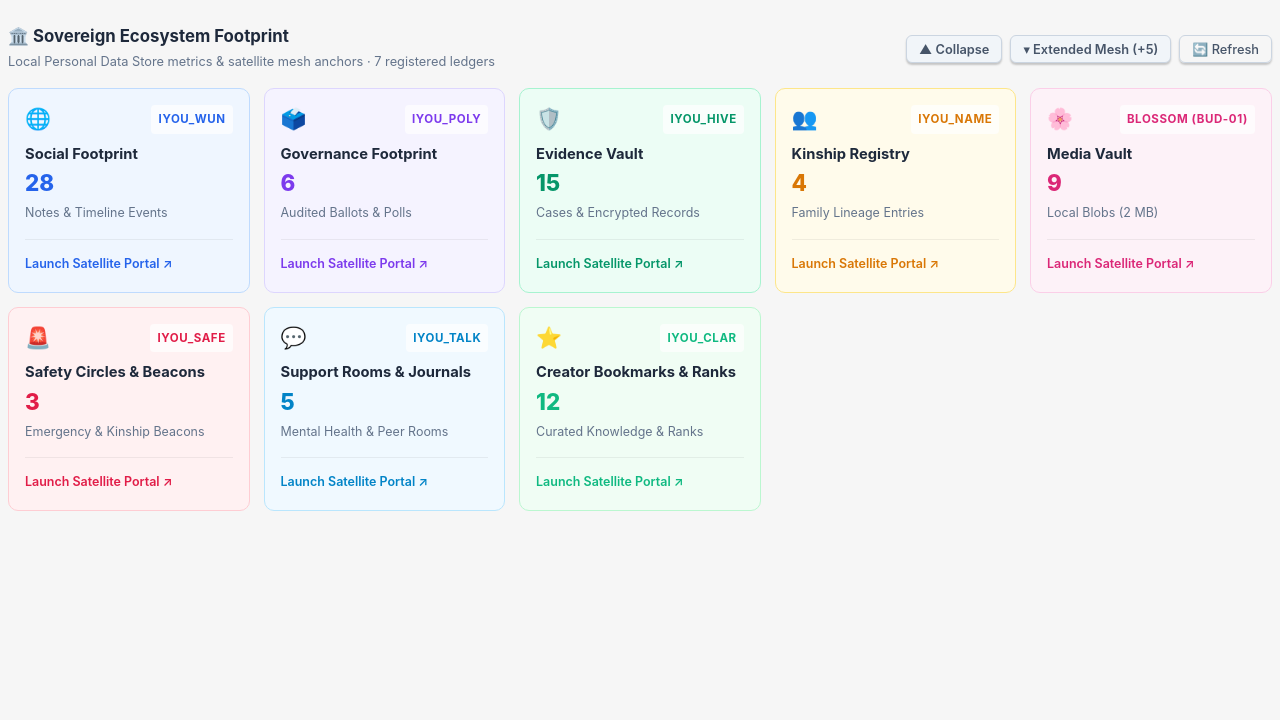
SovereignFootprint Core 8 & Extended Mesh › expands and collapses the Extended Mesh (+5) drawer
Expected: the text "Social Footprint" is shown, [25,145,138,163]
Expected: the text "Extended Mesh Ecosystem (+5 Satellites)" is not shown
Click the button "▾ Extended Mesh (+5)".
click(1091, 49)  # box [1010,35,1171,63]
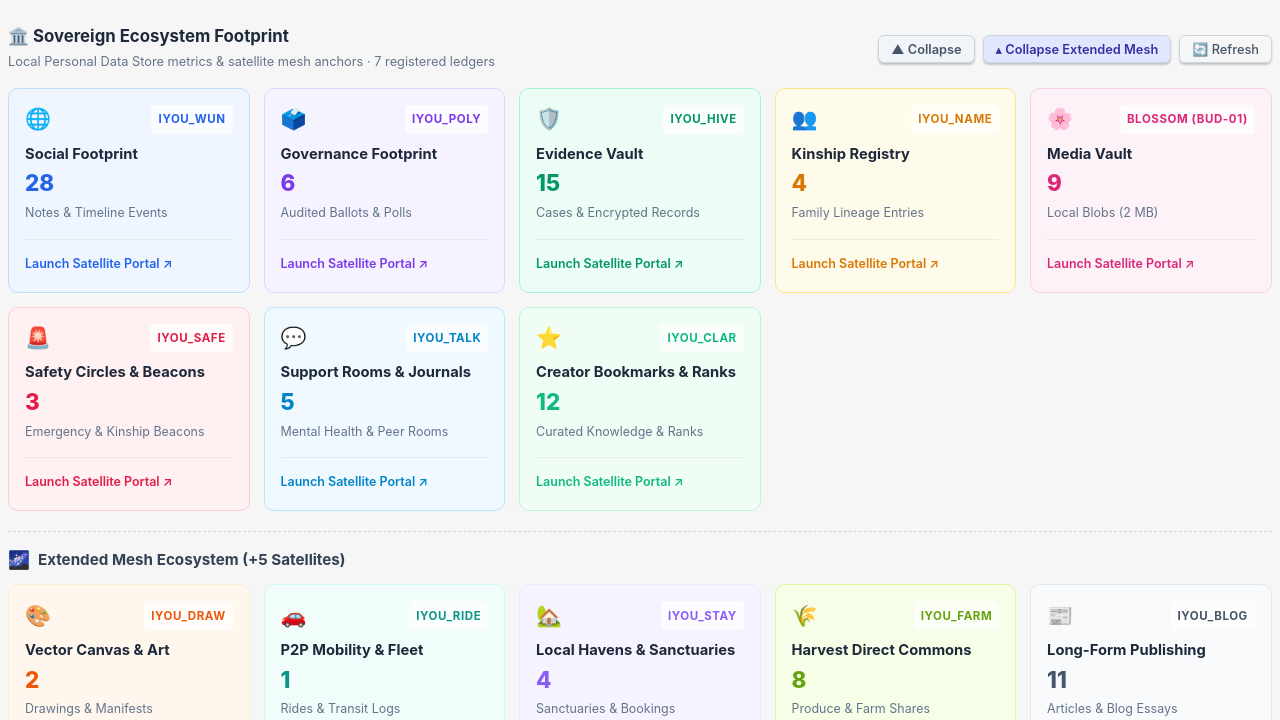
Now the text "Extended Mesh Ecosystem (+5 Satellites)" is shown, box [38,548,346,572]
Now the text "Vector Canvas & Art" is shown, box [25,641,170,659]
Now the text "P2P Mobility & Fleet" is shown, box [280,641,423,659]
Collapse again
Click the button "▴ Collapse Extended Mesh".
click(1077, 49)  # box [983,35,1171,63]
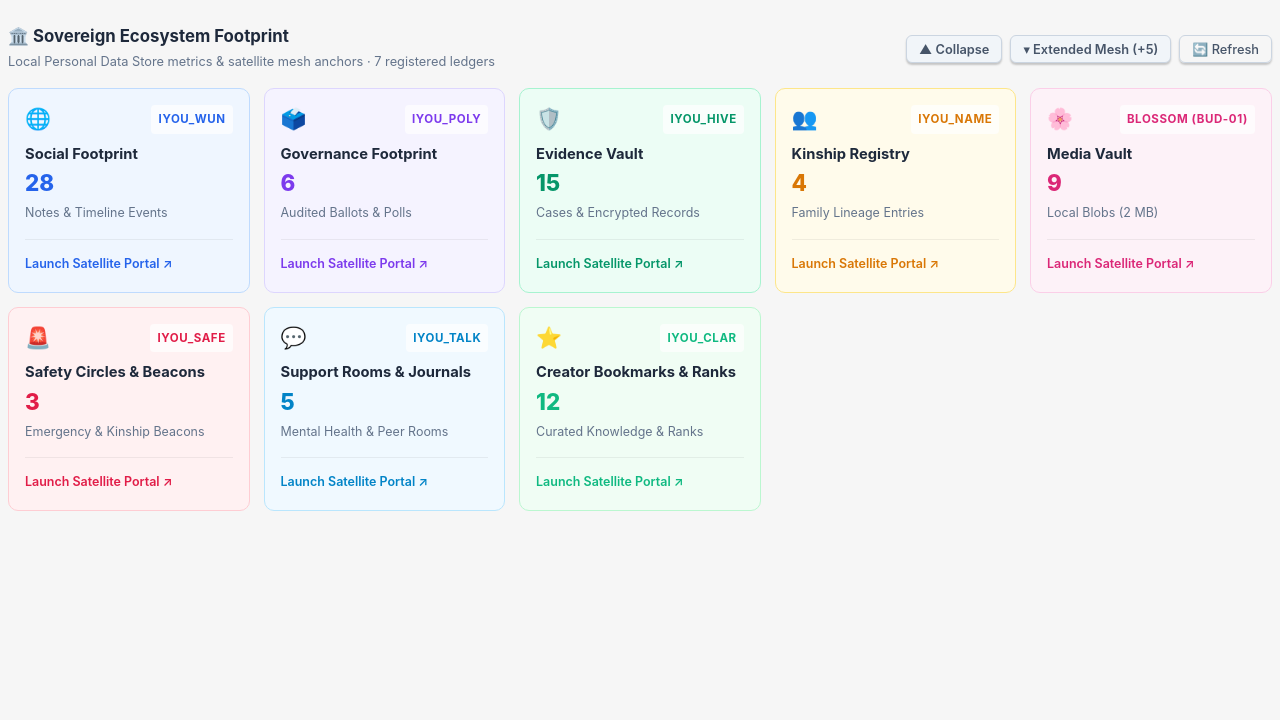
Now the text "Extended Mesh Ecosystem (+5 Satellites)" is gone
